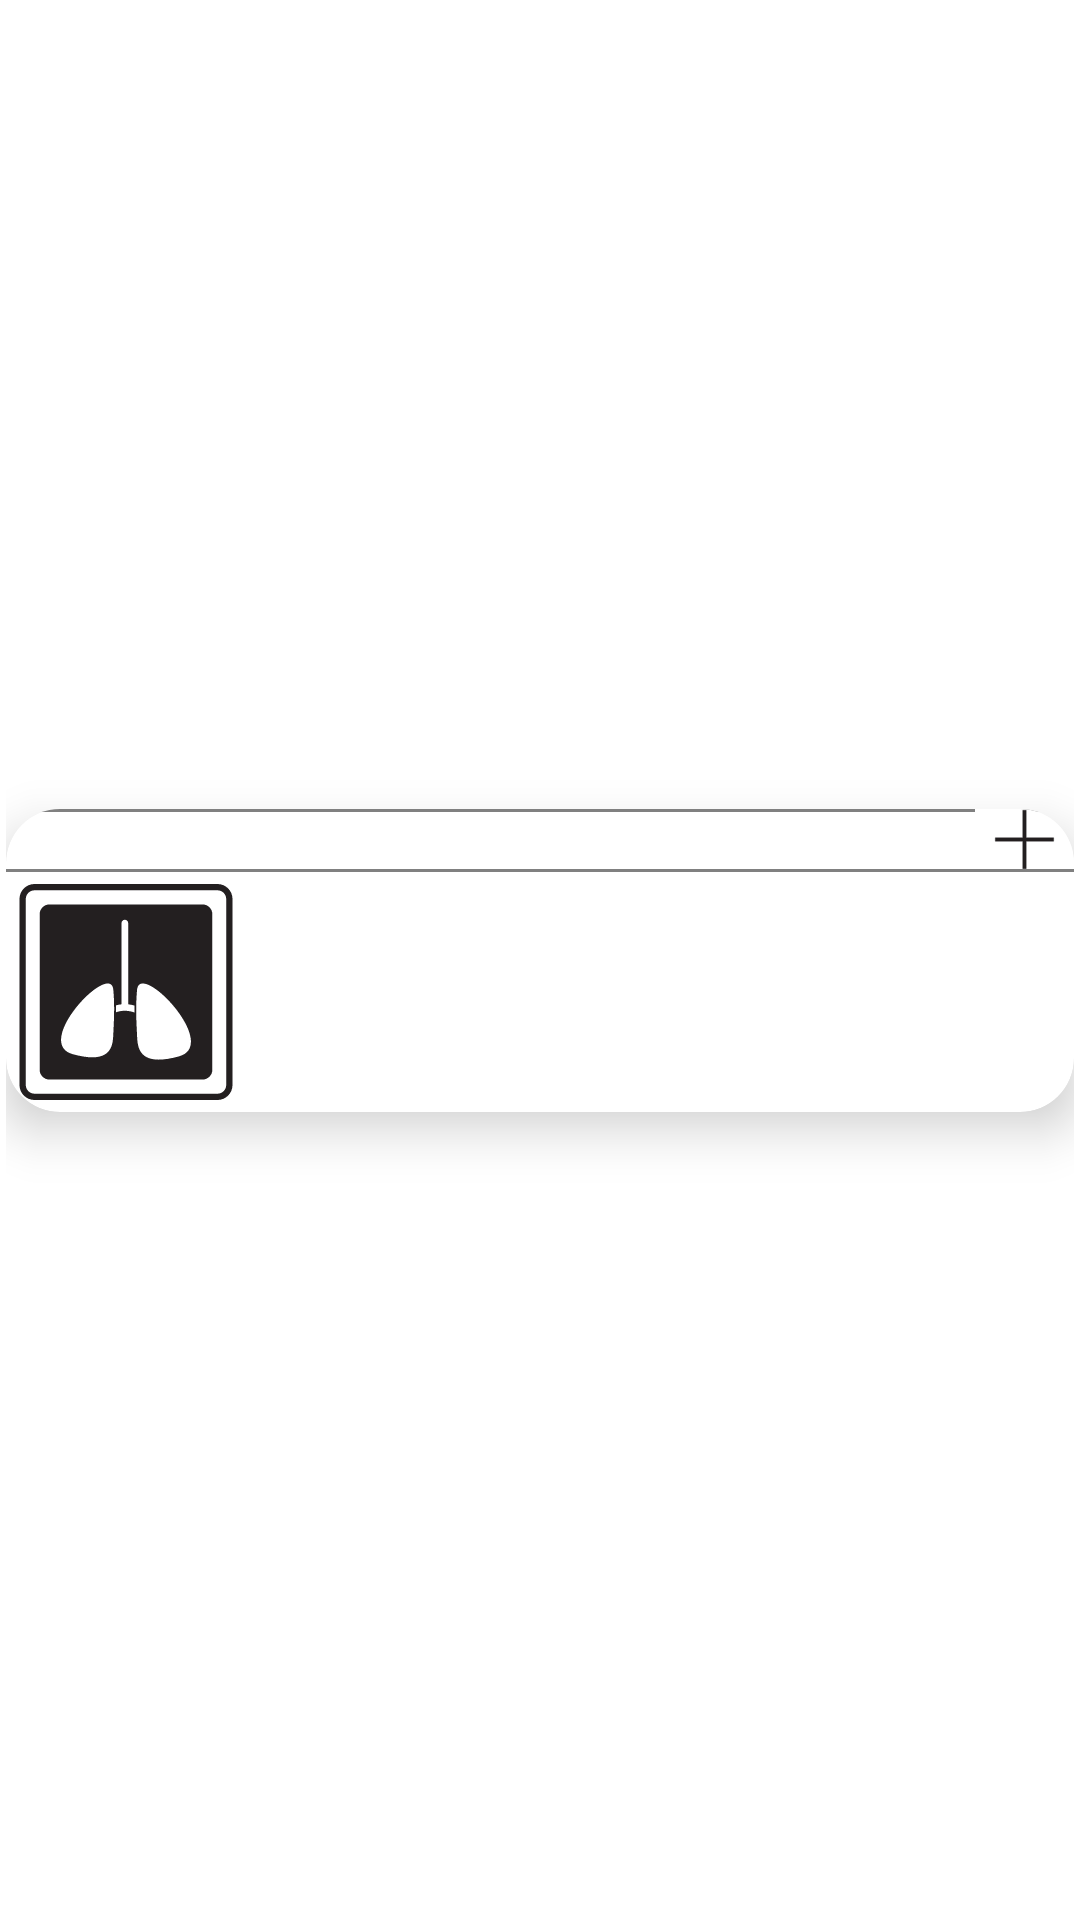

Icon bounding boxes for this 1080*1920 phone screenshot, format (x1, y1, x2, y2):
lung: (19, 884, 233, 1100)
